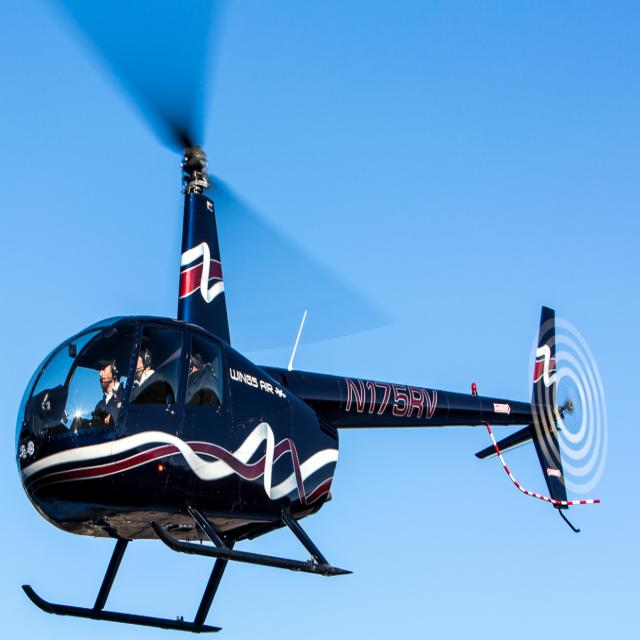helicopter: (18, 1, 627, 636)
